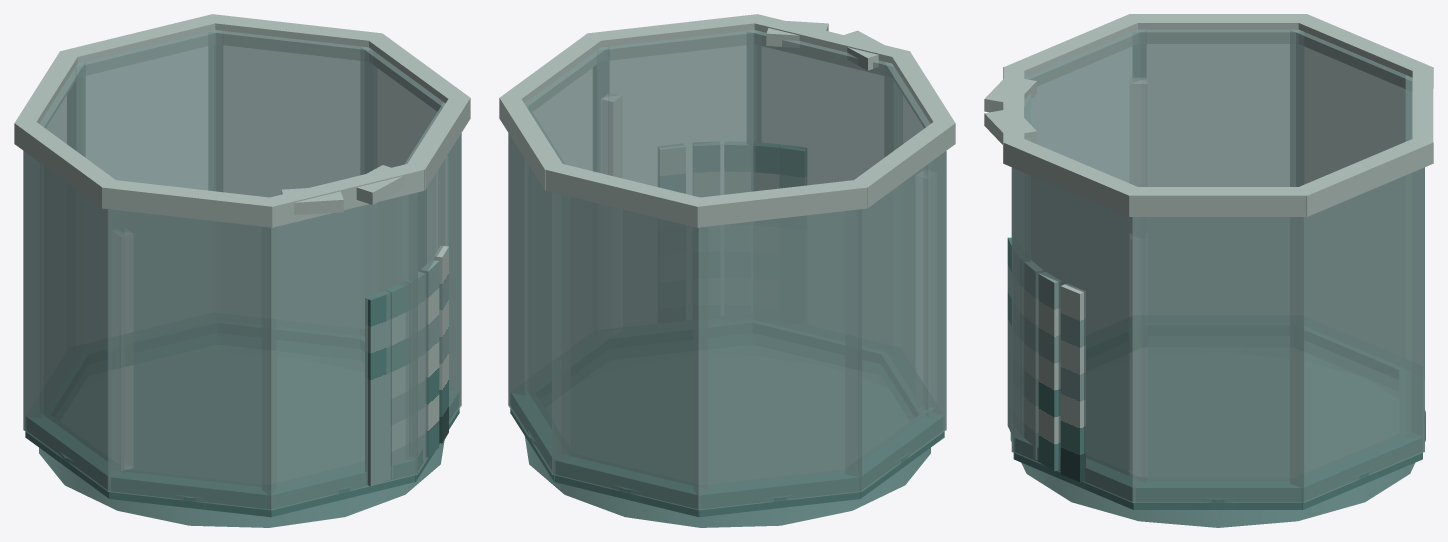
File: CMU3DCMBeakerLargeMedicalSmallCloud.glb
3 renders of one model, left to right at view 1: azimuth 30°, elevation 25°; view 2: azimuth 150°, elevation 25°; view 3: azimuth 270°, elevation 25°, orthographic.
Parts seen in each view (by area): view 1: thin hollow vessel wall 06, thin hollow vessel wall 07, closed vessel floor, thin hollow vessel wall 05, thin hollow vessel wall 02, thin hollow vessel wall 03, thin hollow vessel wall 08, thin hollow vessel wall 01, thin hollow vessel wall 04, rolled open mouth 06, thickened glass foot 06, original curved graduation column 17 (+20 smaller); view 2: thin hollow vessel wall 04, thin hollow vessel wall 03, closed vessel floor, thin hollow vessel wall 05, thin hollow vessel wall 08, thin hollow vessel wall 07, thin hollow vessel wall 02, thin hollow vessel wall 01, thin hollow vessel wall 06, rolled open mouth 04, thickened glass foot 04, rolled open mouth 03 (+21 smaller); view 3: thin hollow vessel wall 01, thin hollow vessel wall 02, closed vessel floor, thin hollow vessel wall 08, thin hollow vessel wall 05, thin hollow vessel wall 04, thin hollow vessel wall 06, thin hollow vessel wall 03, rolled open mouth 01, thickened glass foot 01, original curved graduation column 21, rolled open mouth 05 (+18 smaller).
Boxes of the visible parts, left/top/right/bottom form: thin hollow vessel wall 06: left=107, top=209, right=276, bottom=510; thin hollow vessel wall 07: left=262, top=192, right=417, bottom=510; closed vessel floor: left=39, top=345, right=444, bottom=527; thin hollow vessel wall 05: left=23, top=151, right=124, bottom=491; thin hollow vessel wall 02: left=208, top=30, right=376, bottom=197; thin hollow vessel wall 03: left=67, top=30, right=223, bottom=191; thin hollow vessel wall 08: left=399, top=103, right=461, bottom=474; thin hollow vessel wall 01: left=360, top=46, right=461, bottom=405; thin hollow vessel wall 04: left=23, top=62, right=85, bottom=430; rolled open mouth 06: left=102, top=180, right=277, bottom=227; thickened glass foot 06: left=109, top=470, right=276, bottom=517; original curved graduation column 17: left=365, top=290, right=390, bottom=486; thin hollow vessel wall 04: left=693, top=209, right=862, bottom=510; thin hollow vessel wall 03: left=552, top=192, right=707, bottom=510; closed vessel floor: left=524, top=345, right=930, bottom=527; thin hollow vessel wall 05: left=845, top=151, right=946, bottom=491; thin hollow vessel wall 08: left=593, top=30, right=761, bottom=197; thin hollow vessel wall 07: left=746, top=30, right=902, bottom=191; thin hollow vessel wall 02: left=508, top=103, right=570, bottom=474; thin hollow vessel wall 01: left=508, top=46, right=609, bottom=405; thin hollow vessel wall 06: left=884, top=62, right=946, bottom=430; rolled open mouth 04: left=692, top=179, right=867, bottom=227; thickened glass foot 04: left=693, top=469, right=860, bottom=517; rolled open mouth 03: left=544, top=162, right=707, bottom=227; thin hollow vessel wall 01: left=1132, top=217, right=1304, bottom=502; thin hollow vessel wall 02: left=1290, top=167, right=1424, bottom=502; closed vessel floor: left=1010, top=348, right=1425, bottom=527; thin hollow vessel wall 08: left=1011, top=167, right=1146, bottom=502; thin hollow vessel wall 05: left=1132, top=29, right=1303, bottom=186; thin hollow vessel wall 04: left=1290, top=29, right=1412, bottom=186; thin hollow vessel wall 06: left=1024, top=29, right=1146, bottom=186; thin hollow vessel wall 03: left=1405, top=75, right=1424, bottom=451; rolled open mouth 01: left=1129, top=187, right=1307, bottom=216; thickened glass foot 01: left=1133, top=479, right=1303, bottom=509; original curved graduation column 21: left=1060, top=284, right=1085, bottom=482; rolled open mouth 05: left=1129, top=14, right=1306, bottom=43.
Size of the model in its own units: 0.4974 by 0.4275 by 0.5191.
Materials: 10 (5 with a texture image).
